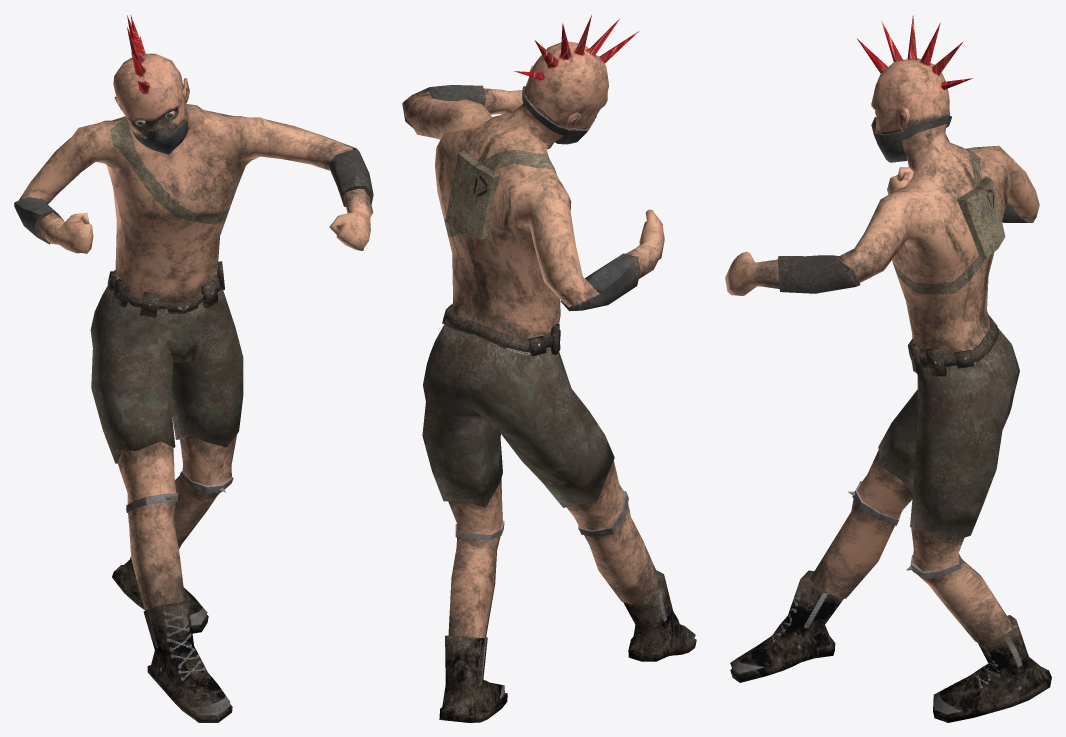
Rendered from Anim_ataque_d2_npc2.0031.obj.
The picture shows the model from 3 angles, left to right: view 1: azimuth 30°, elevation 25°; view 2: azimuth 150°, elevation 25°; view 3: azimuth 270°, elevation 25°; orthographic projection. The views are drawn at different scales.
Visible parts, largest first — view 1: polySurface1; view 2: polySurface1; view 3: polySurface1.
Boxes of the visible parts, x1=… form: polySurface1: x1=14, y1=15, x2=373, y2=722; polySurface1: x1=402, y1=15, x2=696, y2=722; polySurface1: x1=725, y1=15, x2=1051, y2=722.
Bounding box in the file's own units: 4.33 × 9.68 × 4.34.
2 materials, 2 textured.
